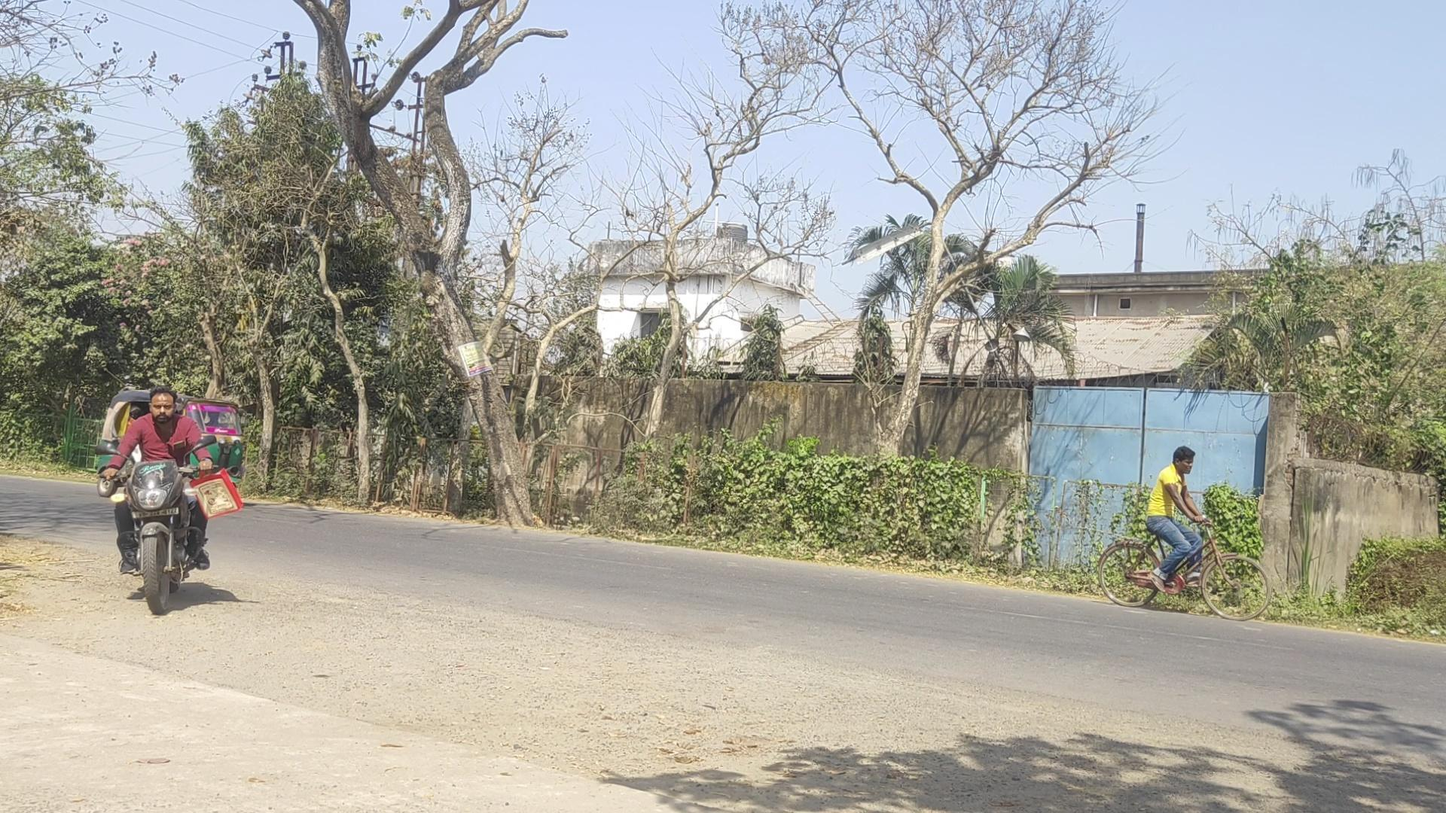Auto: (95, 391, 243, 501)
bike: (1095, 446, 1272, 621), (96, 385, 217, 617)
